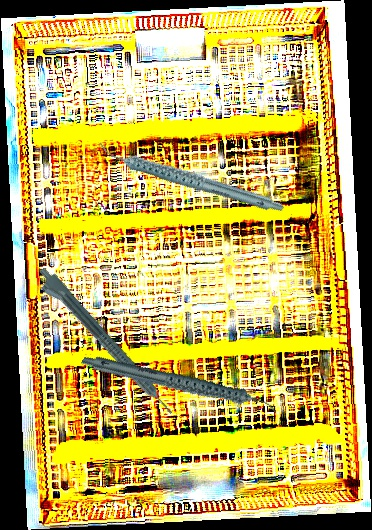Handpiece: (95, 106, 287, 248), (80, 317, 280, 453), (30, 264, 177, 424)
